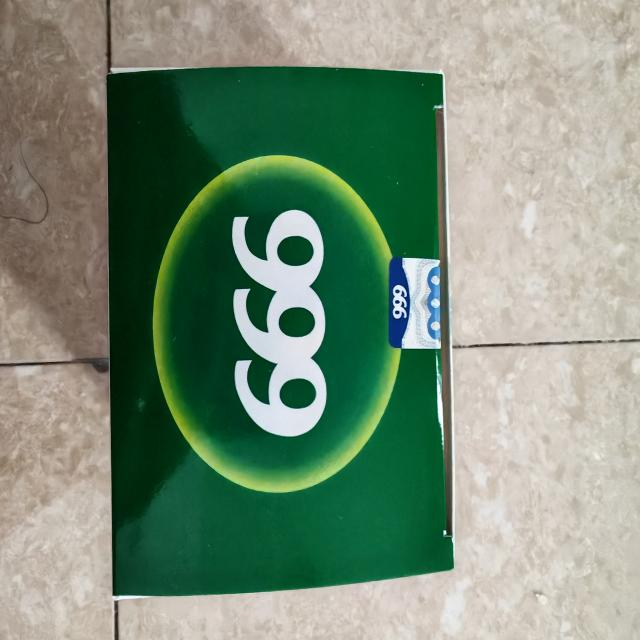box: (95, 56, 464, 608)
